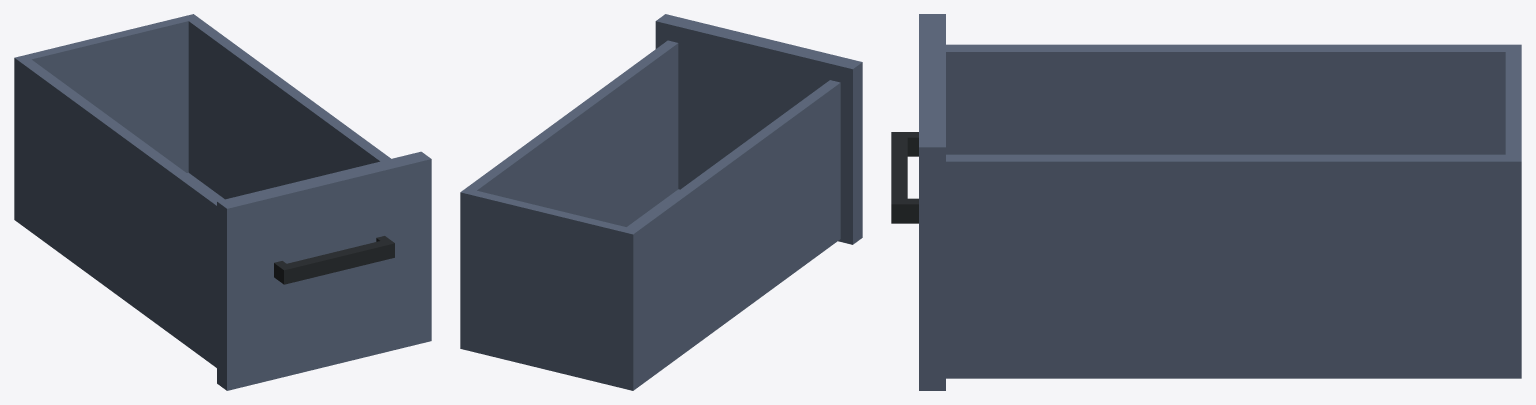
The model's file is Door2_C4_07.fbx.
3 renders of one model, left to right at view 1: azimuth 30°, elevation 25°; view 2: azimuth 150°, elevation 25°; view 3: azimuth 270°, elevation 25°, orthographic. The views are drawn at different scales.
Visible parts, largest first — view 1: Door2_C4_07; view 2: Door2_C4_07; view 3: Door2_C4_07.
Boxes of the visible parts, bbox=[...] form: Door2_C4_07: bbox=[14, 14, 431, 390]; Door2_C4_07: bbox=[460, 14, 862, 390]; Door2_C4_07: bbox=[891, 14, 1521, 390].
Size of the model in its own units: 29 by 24.68 by 57.89.
